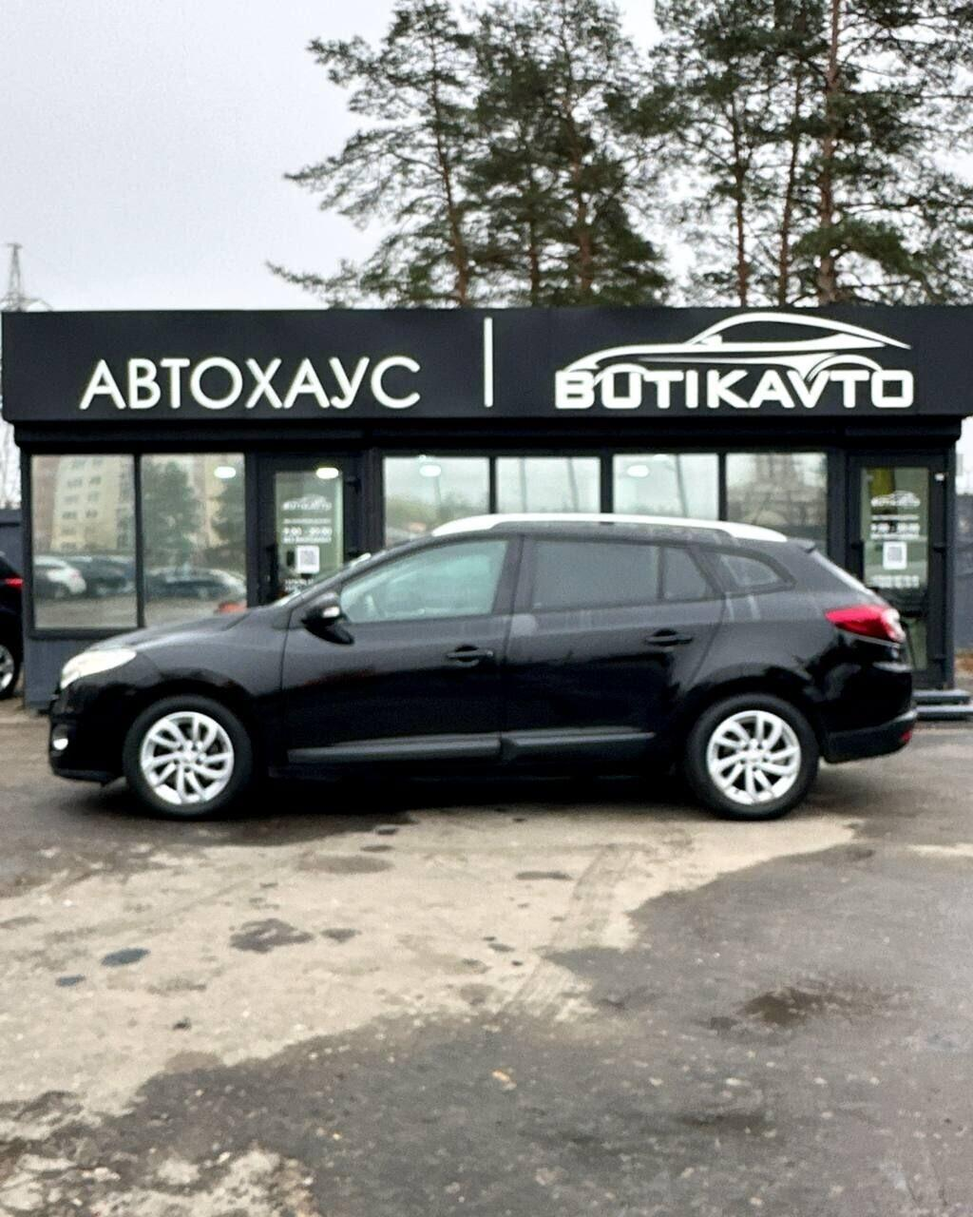Megane_2012-2014: (33, 513, 925, 854)
